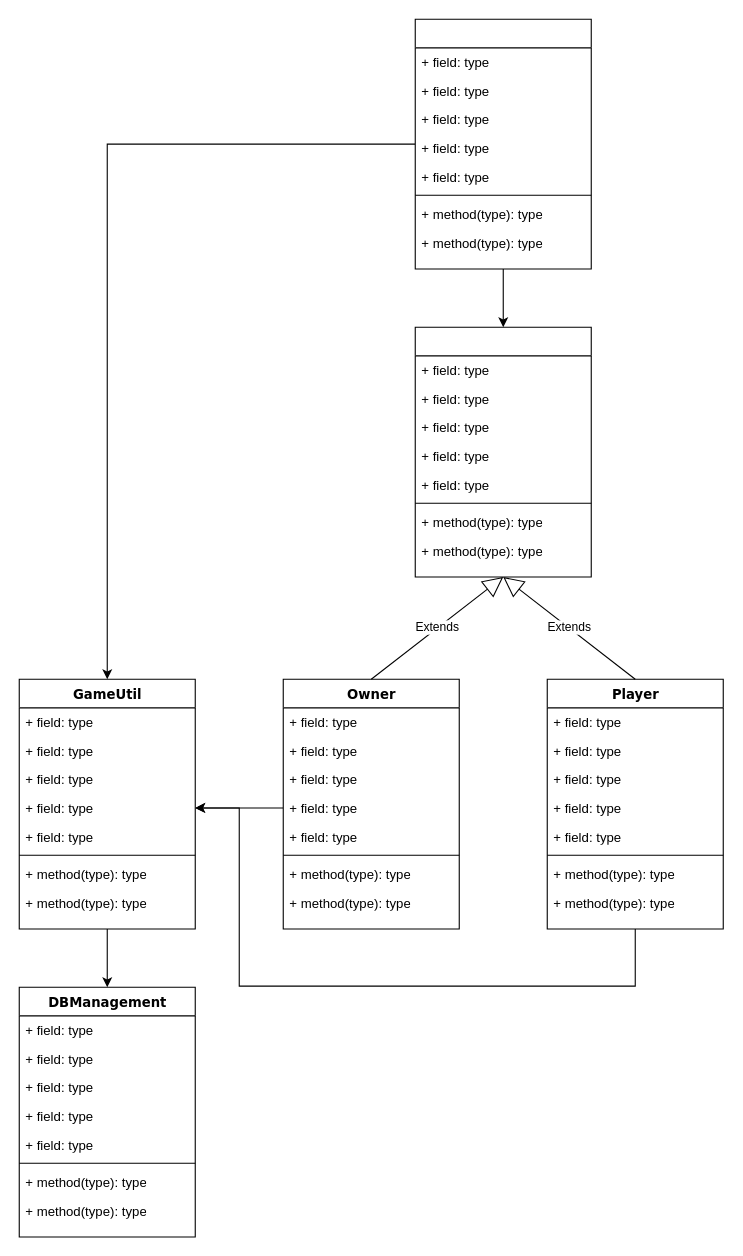
Image size: 743x1256. Some labels were removed from this diagram. Each missing label, with the box of its shape:
Main: (414, 18, 591, 269)
User: (414, 326, 591, 577)
